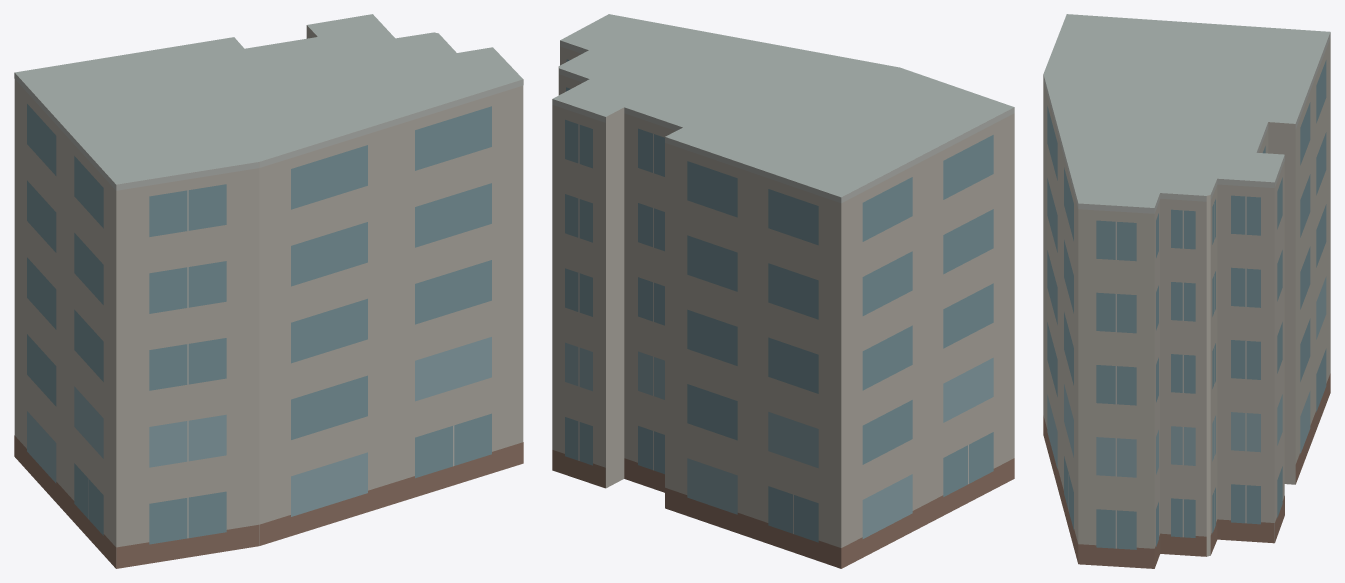
Rendered from survey-upis-32473116.glb.
3 views of the same model, side by side, from view 1: azimuth 30°, elevation 25°; view 2: azimuth 150°, elevation 25°; view 3: azimuth 270°, elevation 25° (orthographic). The views are drawn at different scales.
Visible parts, largest first — view 1: survey-upis-32473116.tmp; view 2: survey-upis-32473116.tmp; view 3: survey-upis-32473116.tmp.
Part boxes in pixels (x1=…): survey-upis-32473116.tmp: x1=14, y1=14, x2=523, y2=568; survey-upis-32473116.tmp: x1=552, y1=14, x2=1014, y2=568; survey-upis-32473116.tmp: x1=1043, y1=14, x2=1330, y2=568.
Size of the model in its own units: 17.6 by 15.25 by 11.01.
